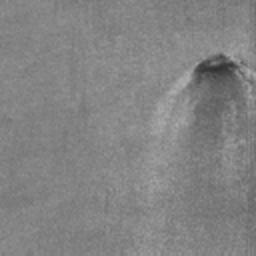Iron sheet ash: (193, 51, 243, 83)
